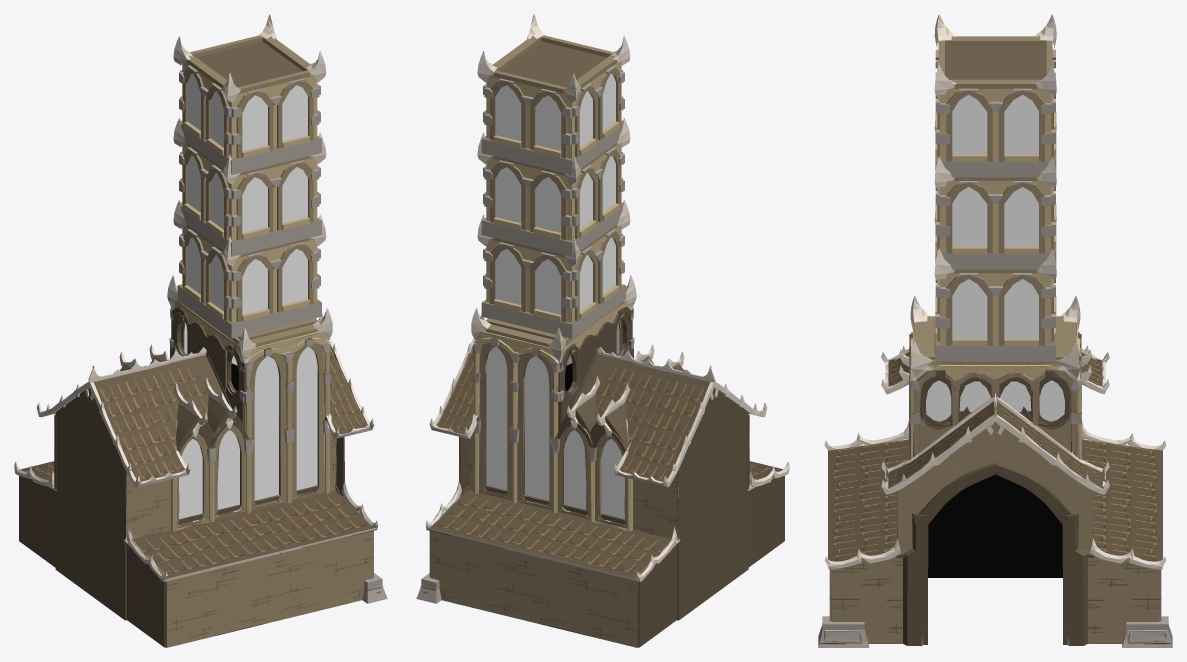
3 renders of one model, left to right at view 1: azimuth 30°, elevation 25°; view 2: azimuth 150°, elevation 25°; view 3: azimuth 270°, elevation 25°, orthographic. The views are drawn at different scales.
Parts seen in each view (by area): view 1: Base3, Expansion3, Expansion1, Expansion2; view 2: Base3, Expansion3, Expansion1, Expansion2; view 3: Base3, Expansion3, Expansion1, Expansion2.
Part boxes in pixels (x1=…): Base3: x1=14, y1=275, x2=387, y2=647; Expansion3: x1=173, y1=14, x2=326, y2=174; Expansion1: x1=173, y1=199, x2=326, y2=338; Expansion2: x1=173, y1=118, x2=326, y2=256; Base3: x1=416, y1=275, x2=789, y2=647; Expansion3: x1=477, y1=14, x2=630, y2=174; Expansion1: x1=477, y1=200, x2=630, y2=338; Expansion2: x1=477, y1=118, x2=630, y2=256; Base3: x1=818, y1=296, x2=1172, y2=647; Expansion3: x1=934, y1=14, x2=1056, y2=177; Expansion1: x1=934, y1=213, x2=1056, y2=361; Expansion2: x1=934, y1=121, x2=1056, y2=269.
Size of the model in its own units: 0.6691 by 1.38 by 0.7677.
10 materials, 2 textured.
